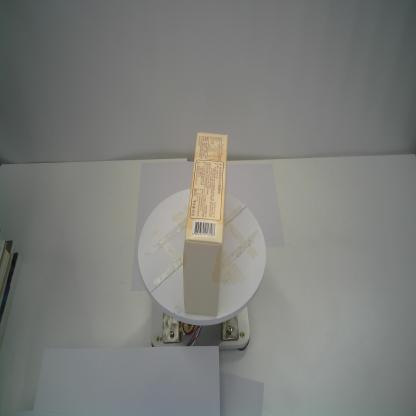Dessert: (183, 131, 228, 317)
